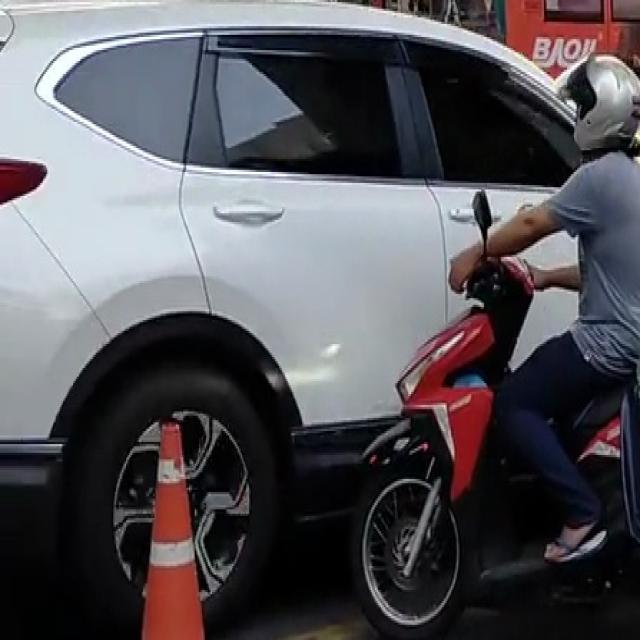door: (179, 30, 448, 429)
helmet: (552, 52, 638, 152)
tyre: (57, 344, 289, 636), (351, 472, 465, 638)
